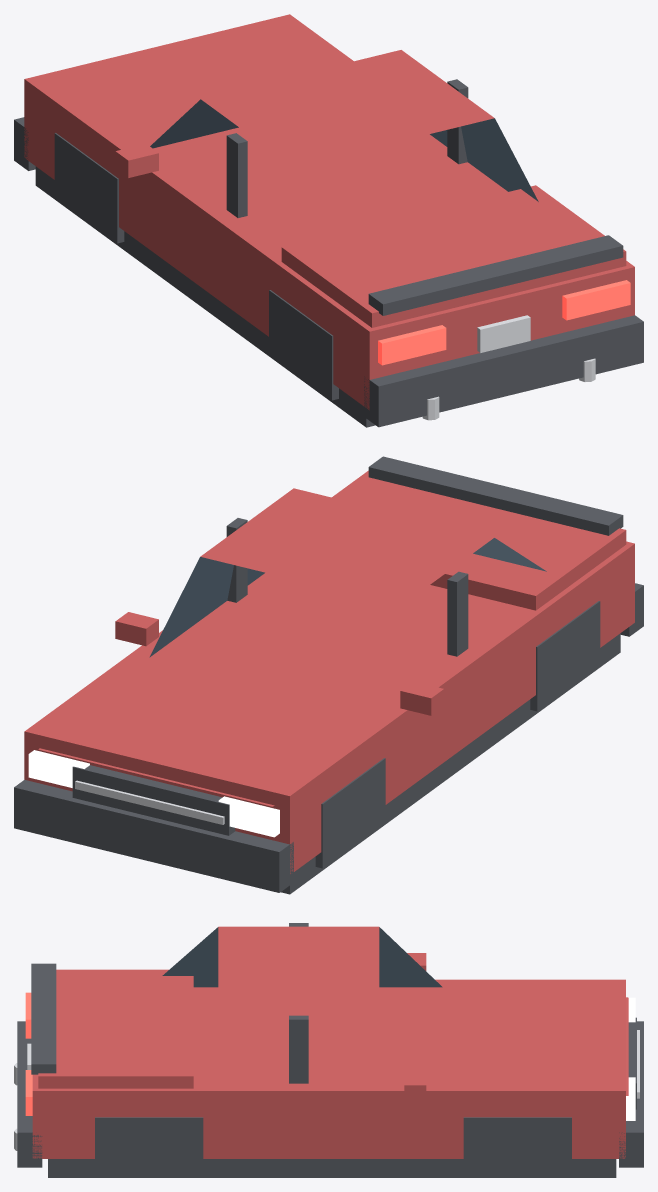
File: car_body.glb
3 renders of one model, top to bottom at view 1: azimuth 30°, elevation 25°; view 2: azimuth 150°, elevation 25°; view 3: azimuth 270°, elevation 25°, orthographic. The views are drawn at different scales.
Parts seen in each view (by area): view 1: car_body; view 2: car_body; view 3: car_body.
Part boxes in pixels (x1,y1,x2,y2): car_body: [14, 14, 643, 427]; car_body: [14, 456, 643, 894]; car_body: [14, 923, 643, 1177].
Size of the model in its own units: 2.26 by 1.24 by 4.55.
